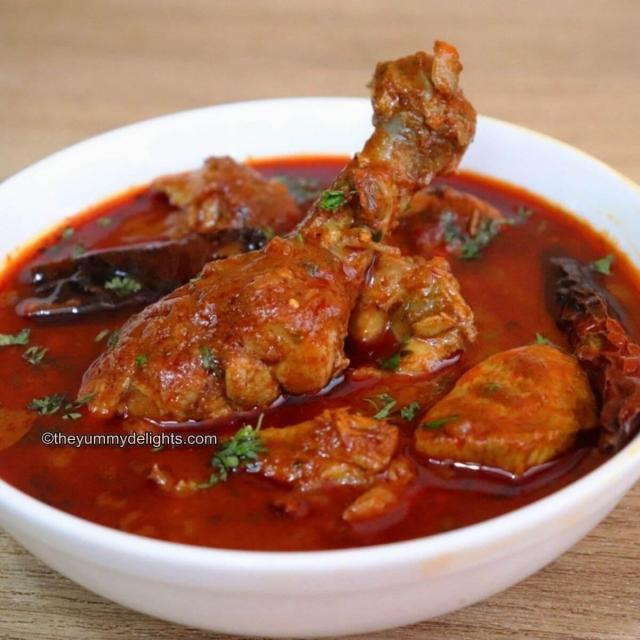chicken: (0, 52, 640, 556)
